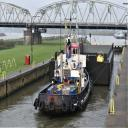tugboat: (34, 19, 94, 118)
